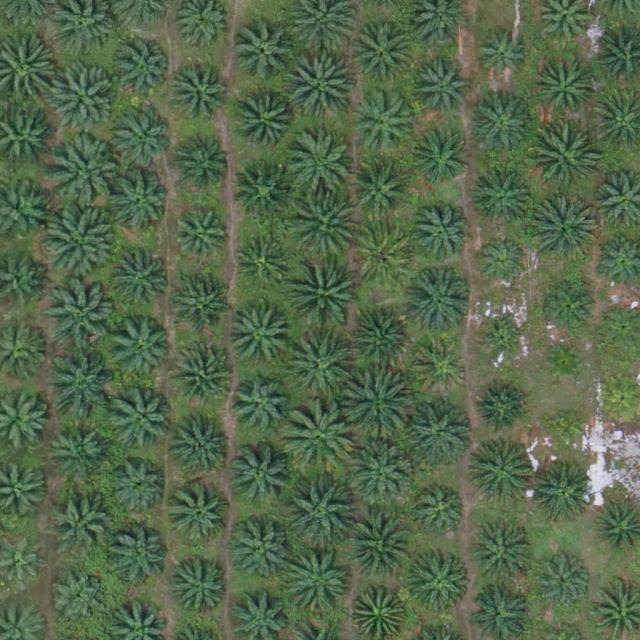Healthy: (286, 549, 357, 620), (529, 124, 600, 195), (44, 349, 114, 420), (285, 477, 356, 547), (283, 333, 353, 404), (341, 371, 411, 442), (349, 438, 419, 509), (344, 509, 414, 580), (529, 194, 599, 265), (404, 265, 474, 336), (290, 255, 360, 326), (289, 190, 359, 261), (285, 132, 355, 203), (44, 207, 114, 278), (46, 64, 117, 134), (284, 404, 354, 474), (405, 397, 475, 467), (289, 52, 359, 122), (48, 280, 118, 350), (52, 135, 122, 205), (110, 40, 173, 103), (170, 555, 233, 618), (170, 343, 233, 406), (229, 517, 292, 580), (470, 439, 533, 502), (472, 526, 535, 589), (529, 462, 592, 525), (349, 158, 412, 221), (112, 107, 175, 170), (107, 248, 170, 311), (234, 21, 296, 84), (48, 419, 110, 482), (50, 489, 112, 552), (109, 316, 171, 379), (106, 525, 168, 588), (170, 483, 232, 546), (175, 412, 237, 475), (227, 307, 290, 369), (231, 375, 293, 438), (230, 444, 292, 507), (350, 309, 412, 372), (409, 548, 471, 611), (534, 58, 596, 121), (470, 95, 532, 158), (471, 166, 533, 229), (410, 203, 472, 266), (351, 89, 413, 152), (353, 225, 415, 288), (235, 89, 297, 152), (235, 160, 297, 223), (172, 273, 234, 336), (174, 130, 237, 192), (169, 62, 232, 124), (109, 169, 171, 232), (354, 22, 416, 84), (112, 390, 174, 452), (473, 30, 528, 85), (413, 339, 468, 394), (53, 571, 108, 626), (475, 379, 530, 434), (540, 281, 595, 336), (474, 236, 529, 291), (414, 131, 469, 186), (413, 63, 468, 118), (234, 235, 289, 290), (173, 211, 228, 266), (112, 459, 166, 514), (353, 584, 407, 639), (416, 486, 470, 541), (537, 553, 591, 608)
Small: (541, 338, 588, 386), (543, 406, 590, 454), (482, 321, 529, 368)
